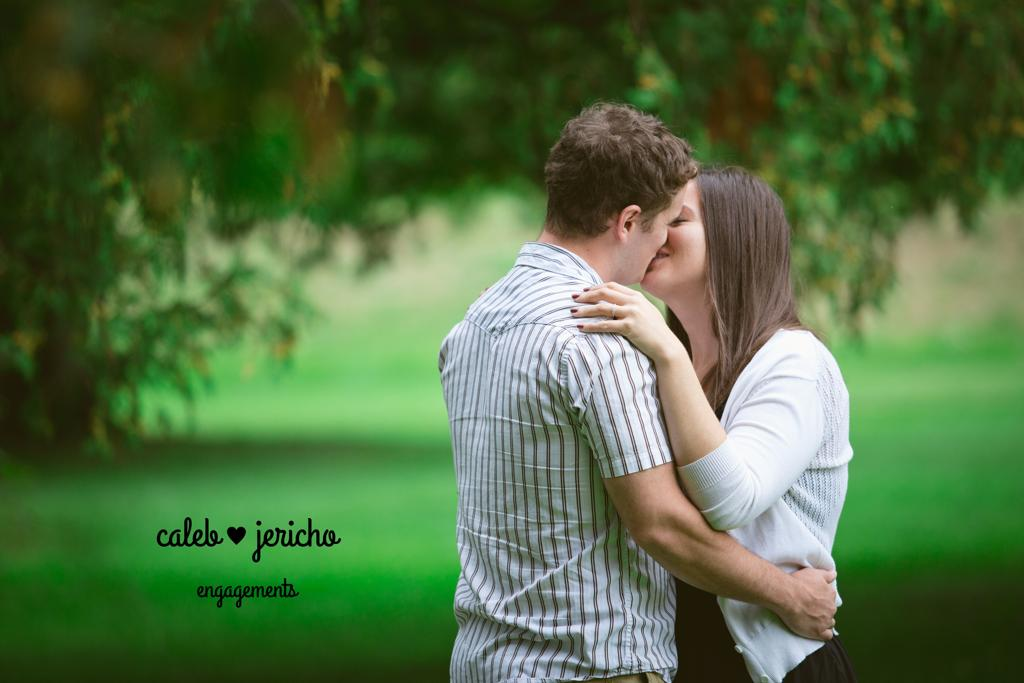face: (643, 184, 728, 299), (637, 167, 686, 289)
